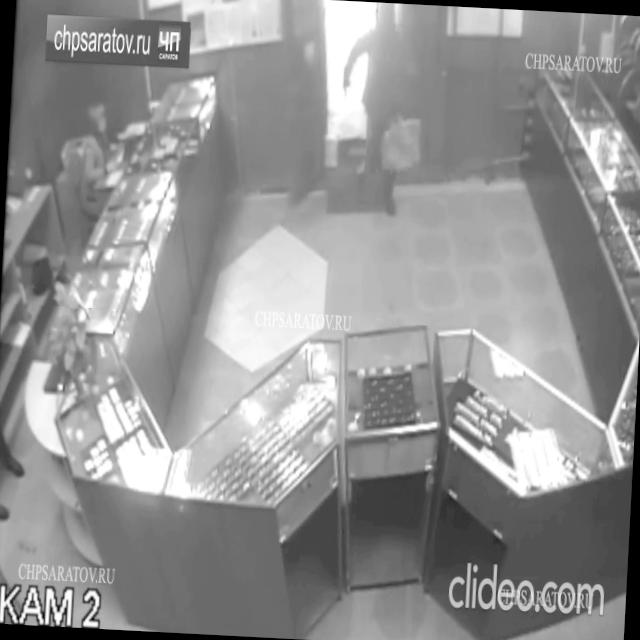gun: (342, 79, 350, 98)
person: (74, 96, 130, 212)
person with a gun: (335, 1, 417, 218)
